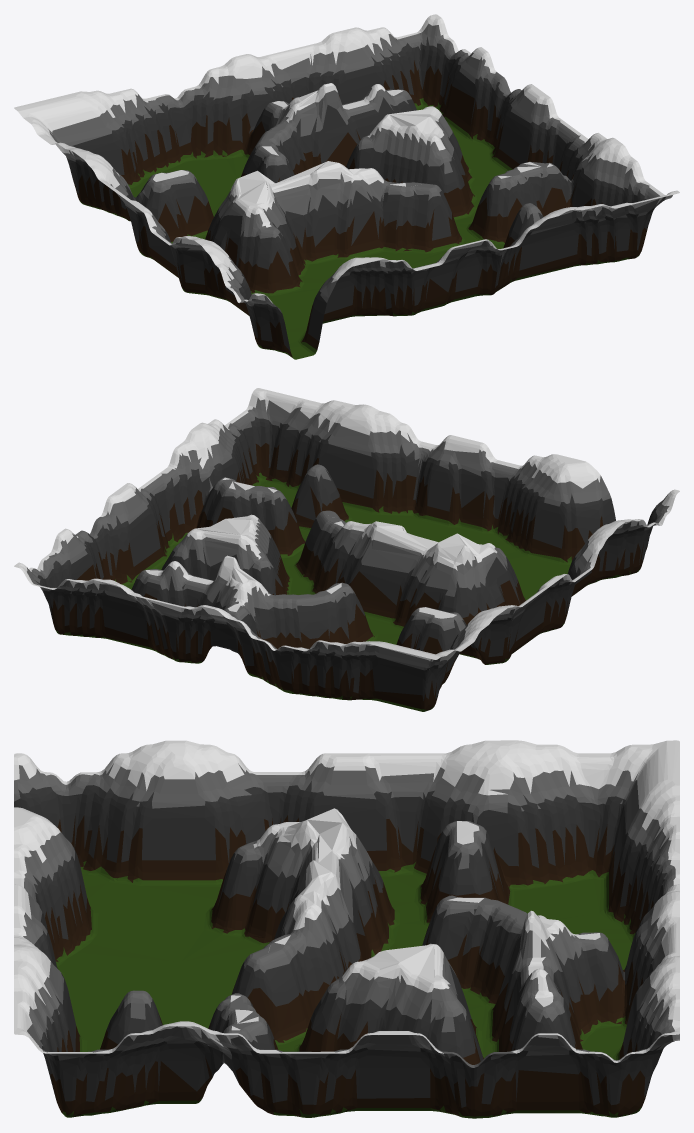
The model's file is landscape4.glb.
3 views of the same model, one above another, from view 1: azimuth 30°, elevation 25°; view 2: azimuth 150°, elevation 25°; view 3: azimuth 270°, elevation 25° (orthographic). The views are drawn at different scales.
Visible parts, largest first — view 1: Cube-col; view 2: Cube-col; view 3: Cube-col.
Part boxes in pixels (x1,y1,x2,y2): Cube-col: (14,14,679,359); Cube-col: (14,388,679,711); Cube-col: (14,740,679,1118).
Size of the model in its own units: 17 by 3.18 by 17.
1 material, 1 textured.
